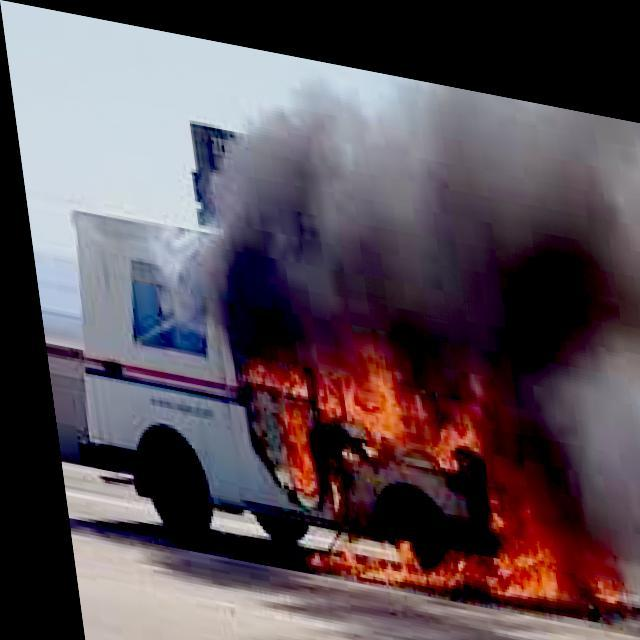Fire: (214, 306, 626, 630)
